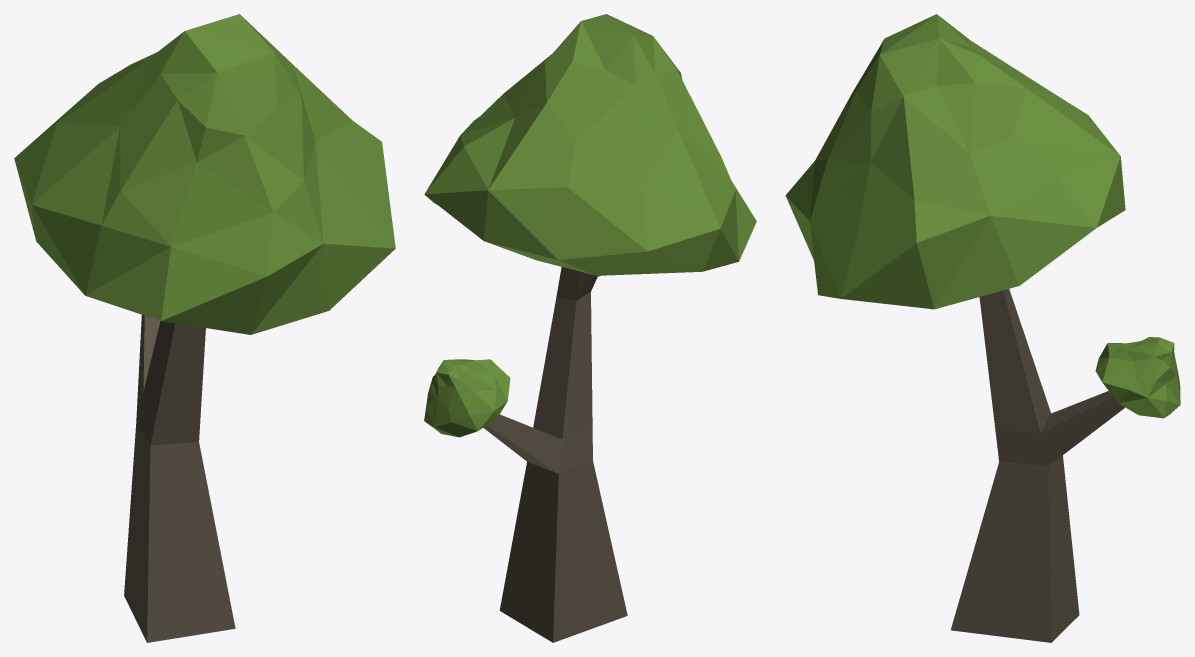
Rendered from tree010.gltf.
The picture shows the model from 3 angles, left to right: view 1: azimuth 30°, elevation 25°; view 2: azimuth 150°, elevation 25°; view 3: azimuth 270°, elevation 25°; orthographic projection. The views are drawn at different scales.
Parts seen in each view (by area): view 1: node_tree010_-211960; view 2: node_tree010_-211960; view 3: node_tree010_-211960.
Part boxes in pixels (box(x1,y1,x2,y2)): node_tree010_-211960: box(14, 14, 395, 642); node_tree010_-211960: box(424, 14, 756, 642); node_tree010_-211960: box(785, 14, 1180, 642).
Bounding box in the file's own units: 1.93 × 3.7 × 2.21.
1 material, 1 textured.
